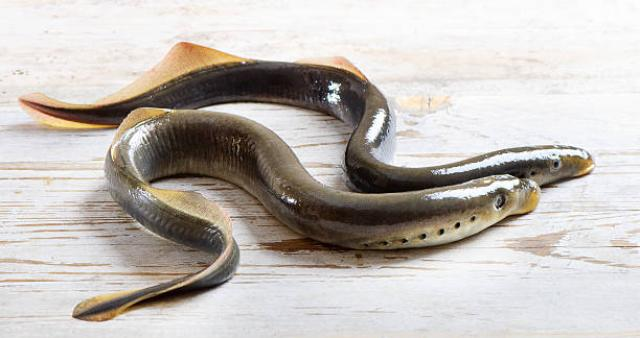Sirip Ekor: (59, 272, 153, 336), (10, 76, 76, 144)
